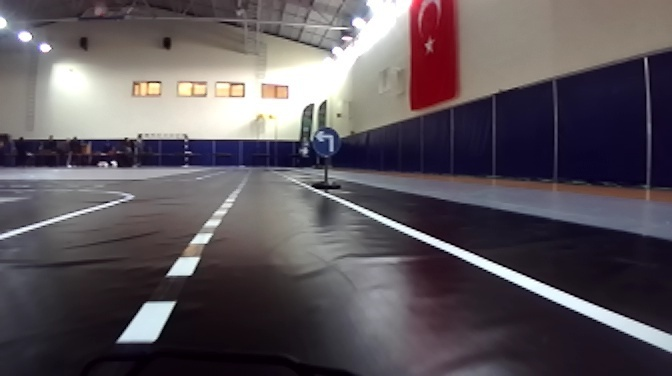sola_donus: (311, 125, 340, 158)
